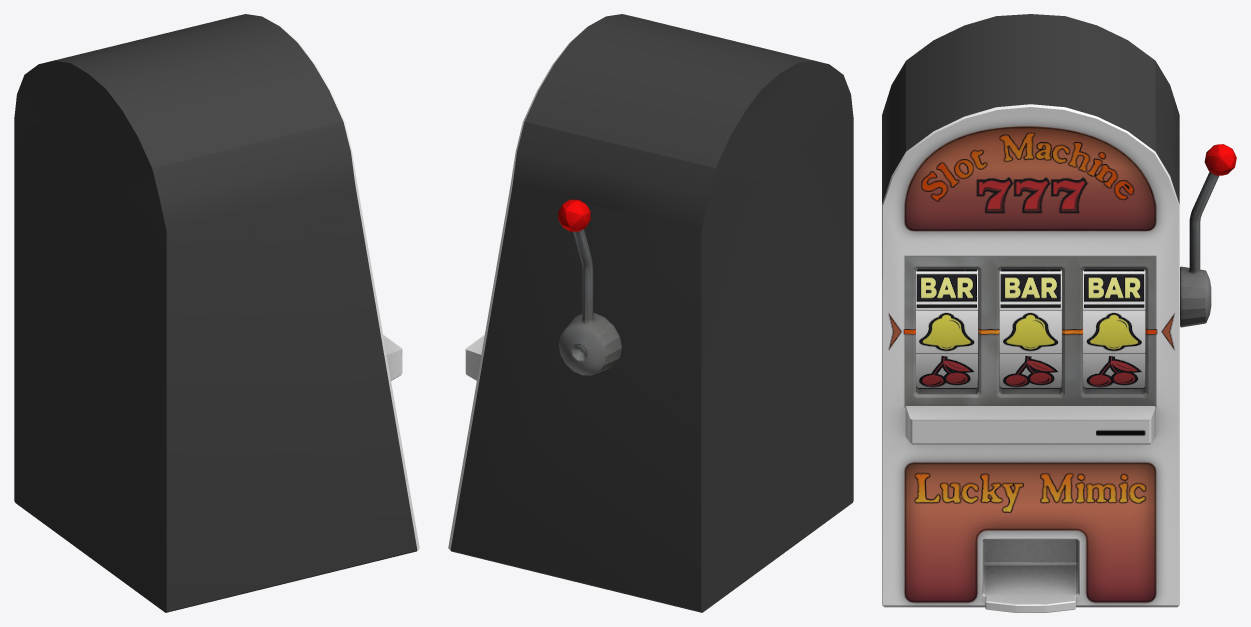
File: Tragaperras.fbx
3 views of the same model, side by side, from view 1: azimuth 30°, elevation 25°; view 2: azimuth 150°, elevation 25°; view 3: azimuth 270°, elevation 25° (orthographic). The views are drawn at different scales.
Visible parts, largest first — view 1: Icosphere_lp; view 2: Icosphere_lp, Cube; view 3: Icosphere_lp, Cylinder.002, Cylinder.001, Cylinder.003, Cube.
Part boxes in pixels (box(x1,y1,x2,y2)): Icosphere_lp: box(14, 14, 419, 612); Icosphere_lp: box(448, 14, 853, 612); Cube: box(558, 199, 621, 375); Icosphere_lp: box(882, 14, 1179, 612); Cylinder.002: box(999, 269, 1062, 387); Cylinder.001: box(916, 269, 978, 387); Cylinder.003: box(1083, 269, 1145, 387); Cube: box(1180, 144, 1236, 327).
Bounding box in the file's own units: 142 × 241 × 164.
